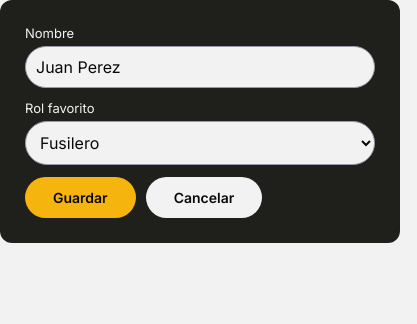
Test: PlayerForm › blocks submit and shows a validation error when nombre is cleared
Step 1. Clear the field labelled "Nombre" → (200, 67), box x1=25 y1=46 x2=375 y2=88
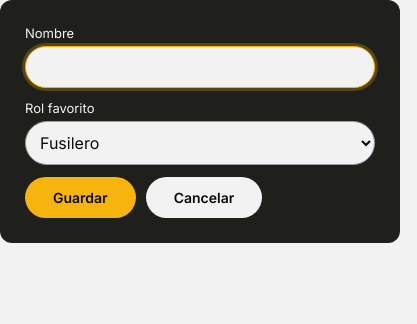
Step 2. Click the button "Guardar" → (80, 198), box x1=25 y1=177 x2=136 y2=218
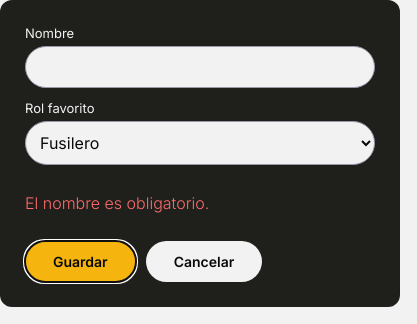
Expected: the message shows "nombre es obligatorio", x1=25 y1=193 x2=209 y2=213
